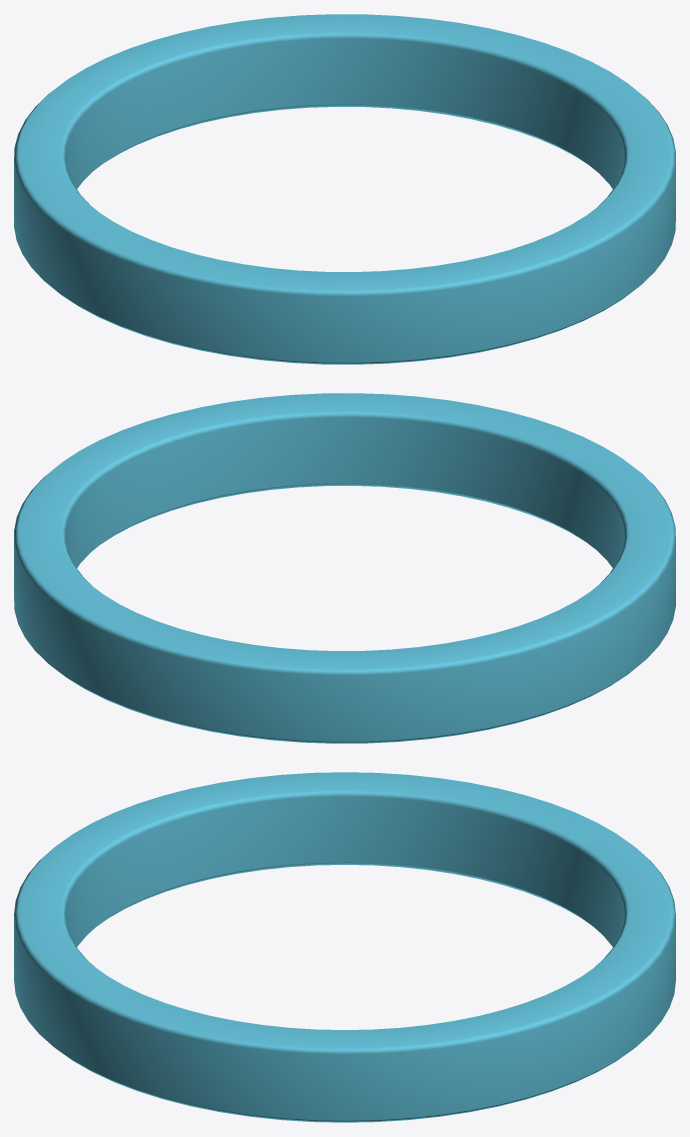
3 views of the same model, one above another, from view 1: azimuth 30°, elevation 25°; view 2: azimuth 150°, elevation 25°; view 3: azimuth 270°, elevation 25° (orthographic).
Visible parts, largest first — view 1: seal_body; view 2: seal_body; view 3: seal_body.
Part boxes in pixels (left/top/right/bottom): seal_body: left=14, top=14, right=675, bottom=364; seal_body: left=14, top=393, right=675, bottom=743; seal_body: left=14, top=772, right=675, bottom=1122.
Size of the model in its own units: 0.1016 by 0.0127 by 0.1016.
